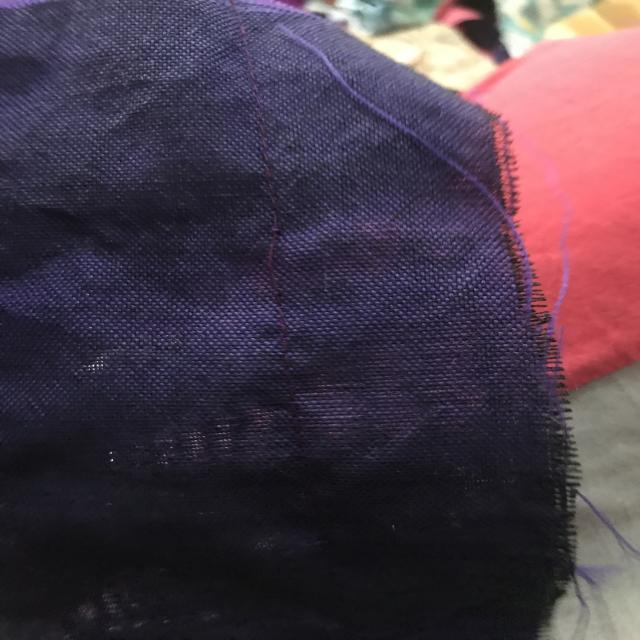skip: (240, 214, 316, 303)
